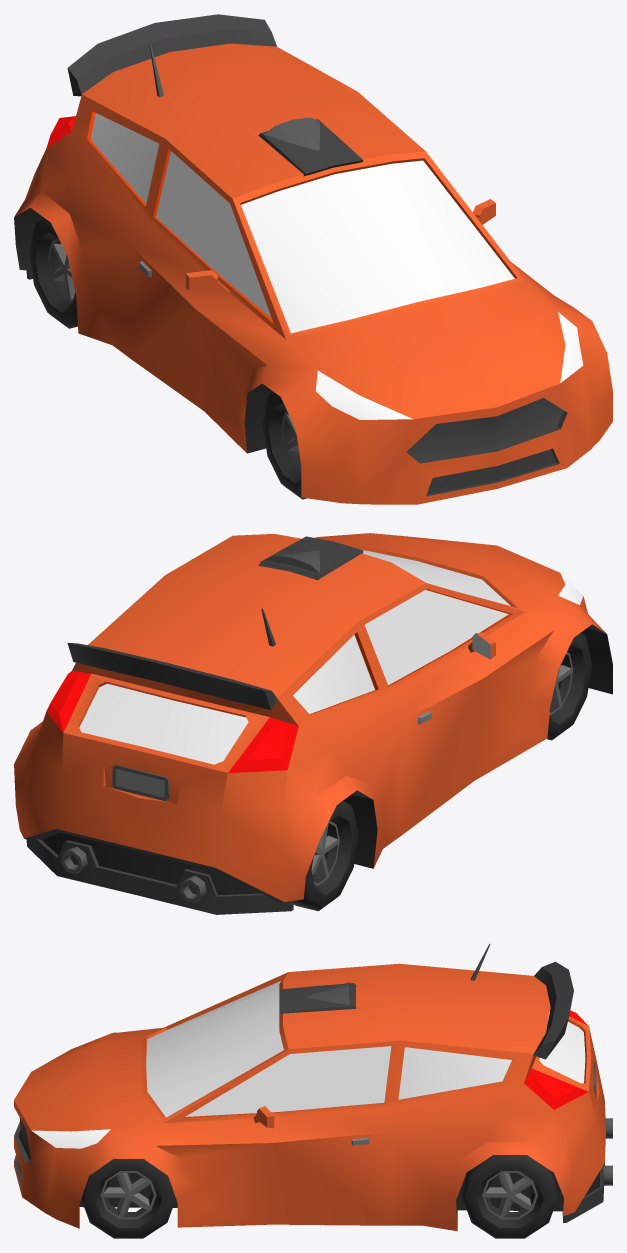
Rendered from rally.glb.
3 views of the same model, one above another, from view 1: azimuth 30°, elevation 25°; view 2: azimuth 150°, elevation 25°; view 3: azimuth 270°, elevation 25° (orthographic). The views are drawn at different scales.
Visible parts, largest first — view 1: rally; view 2: rally; view 3: rally.
Part boxes in pixels (box(x1,y1,x2,y2)): rally: box(14, 14, 612, 504); rally: box(14, 533, 612, 914); rally: box(14, 943, 612, 1238).
Bounding box in the file's own units: 1.97 × 1.62 × 4.02.
Materials: 3 (2 with a texture image).
